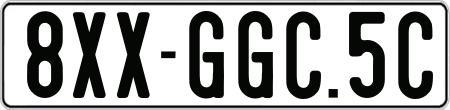5: (347, 10, 385, 96)
8: (26, 8, 65, 95)
C: (283, 9, 324, 97), (396, 12, 436, 100)
G: (188, 9, 229, 96), (235, 10, 273, 97)
X: (117, 12, 152, 100), (72, 10, 107, 97)
